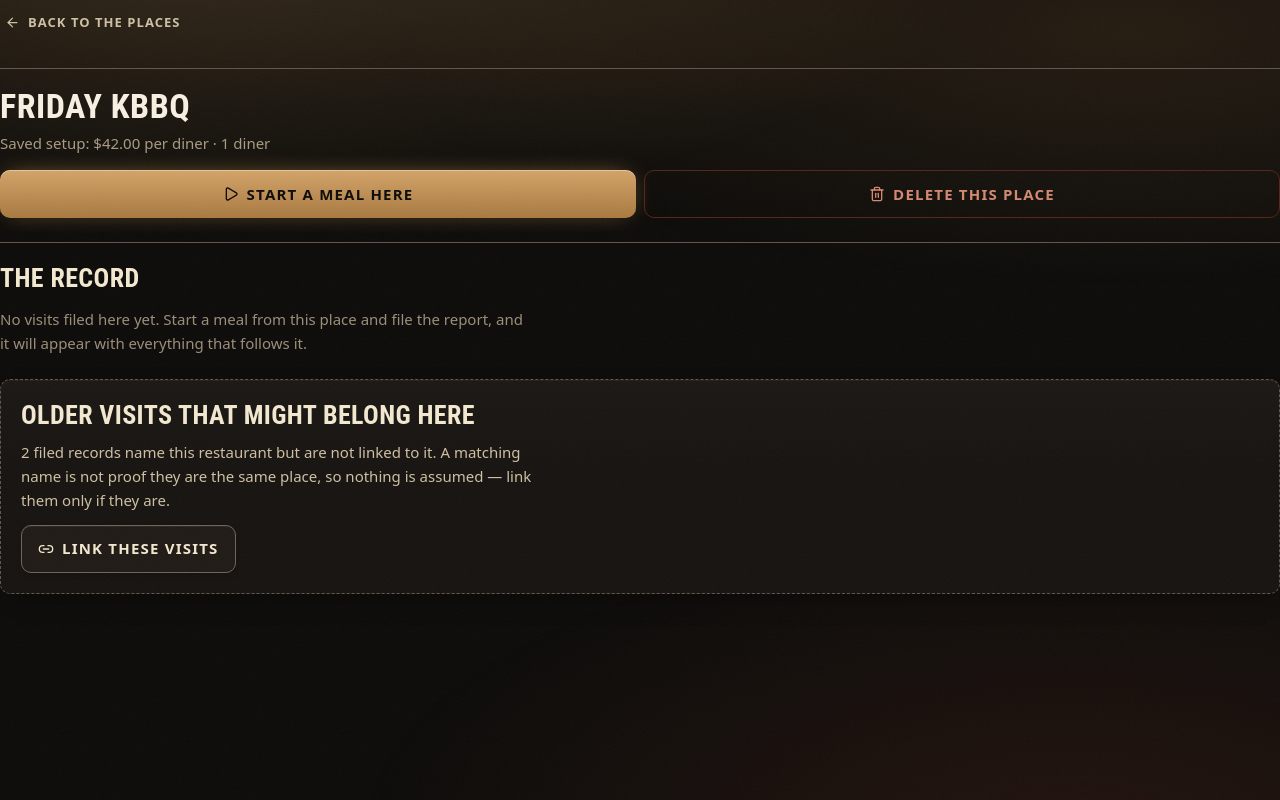
Linking older visits › links every candidate in one go
Expected: the heading "Older visits that might belong here" is shown, [21,400,475,430]
Click the button "Link these visits" at (128, 549), box [21,525,236,573]
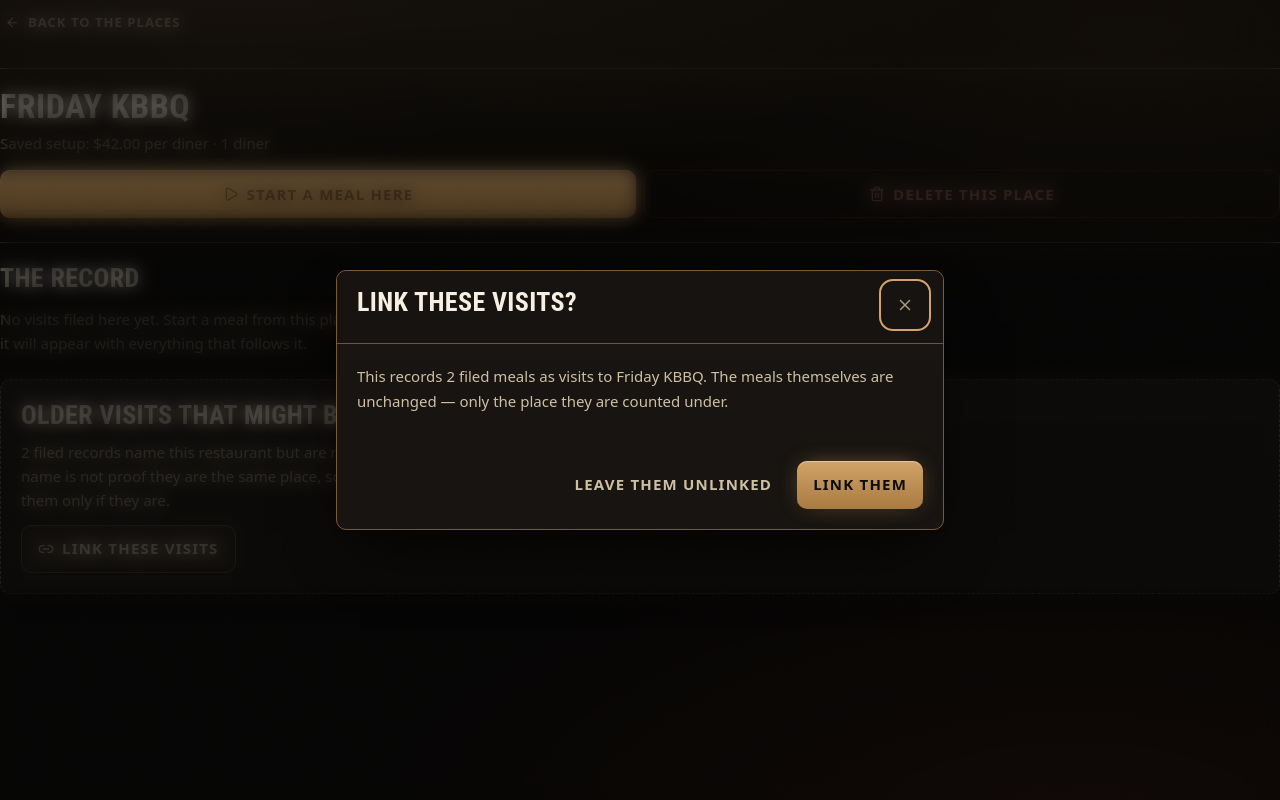
Expected: the heading "Link these visits?" is shown, [357,287,577,318]
Click the button "Link them" at (860, 485), box [797,461,923,509]
(page scrolled)
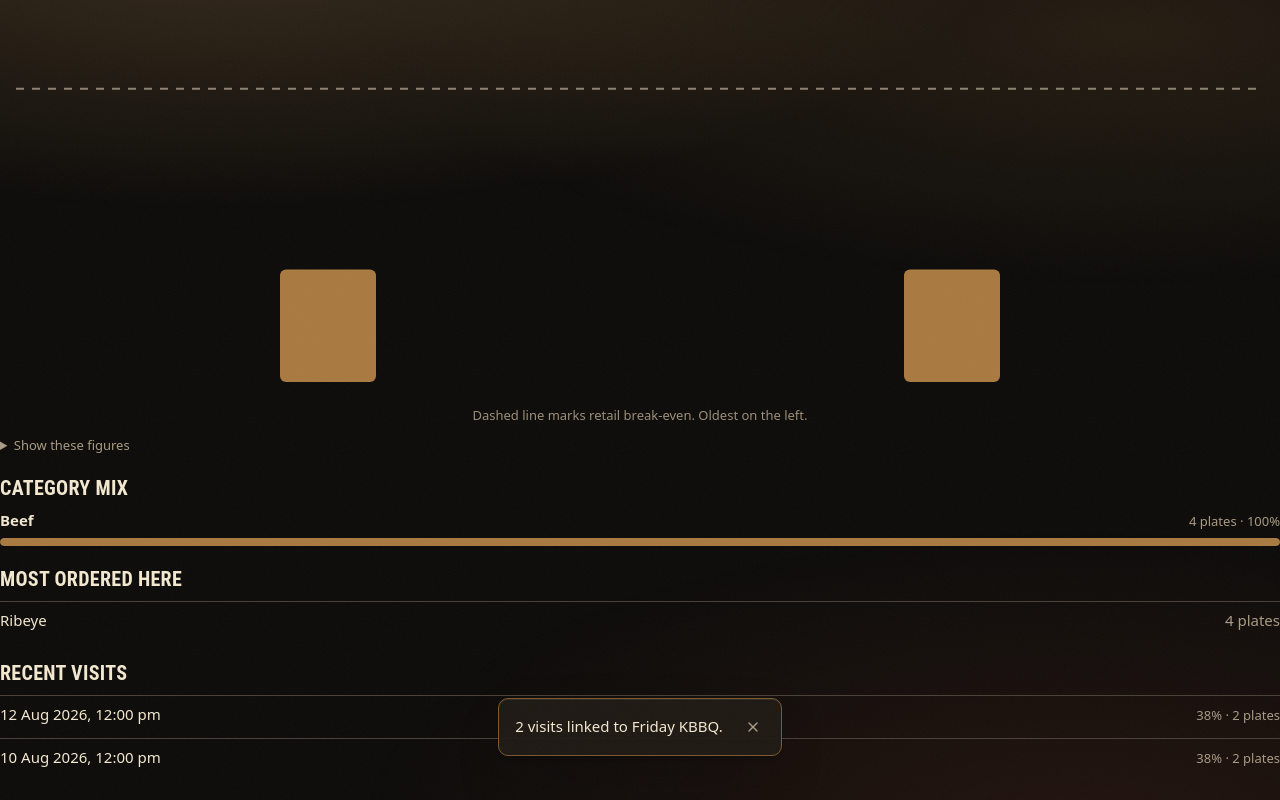
Expected: the heading "Recent visits" is shown, [0,661,127,685]
Expected: the text "2 visits linked to Friday KBBQ." is shown, [515,716,723,738]
